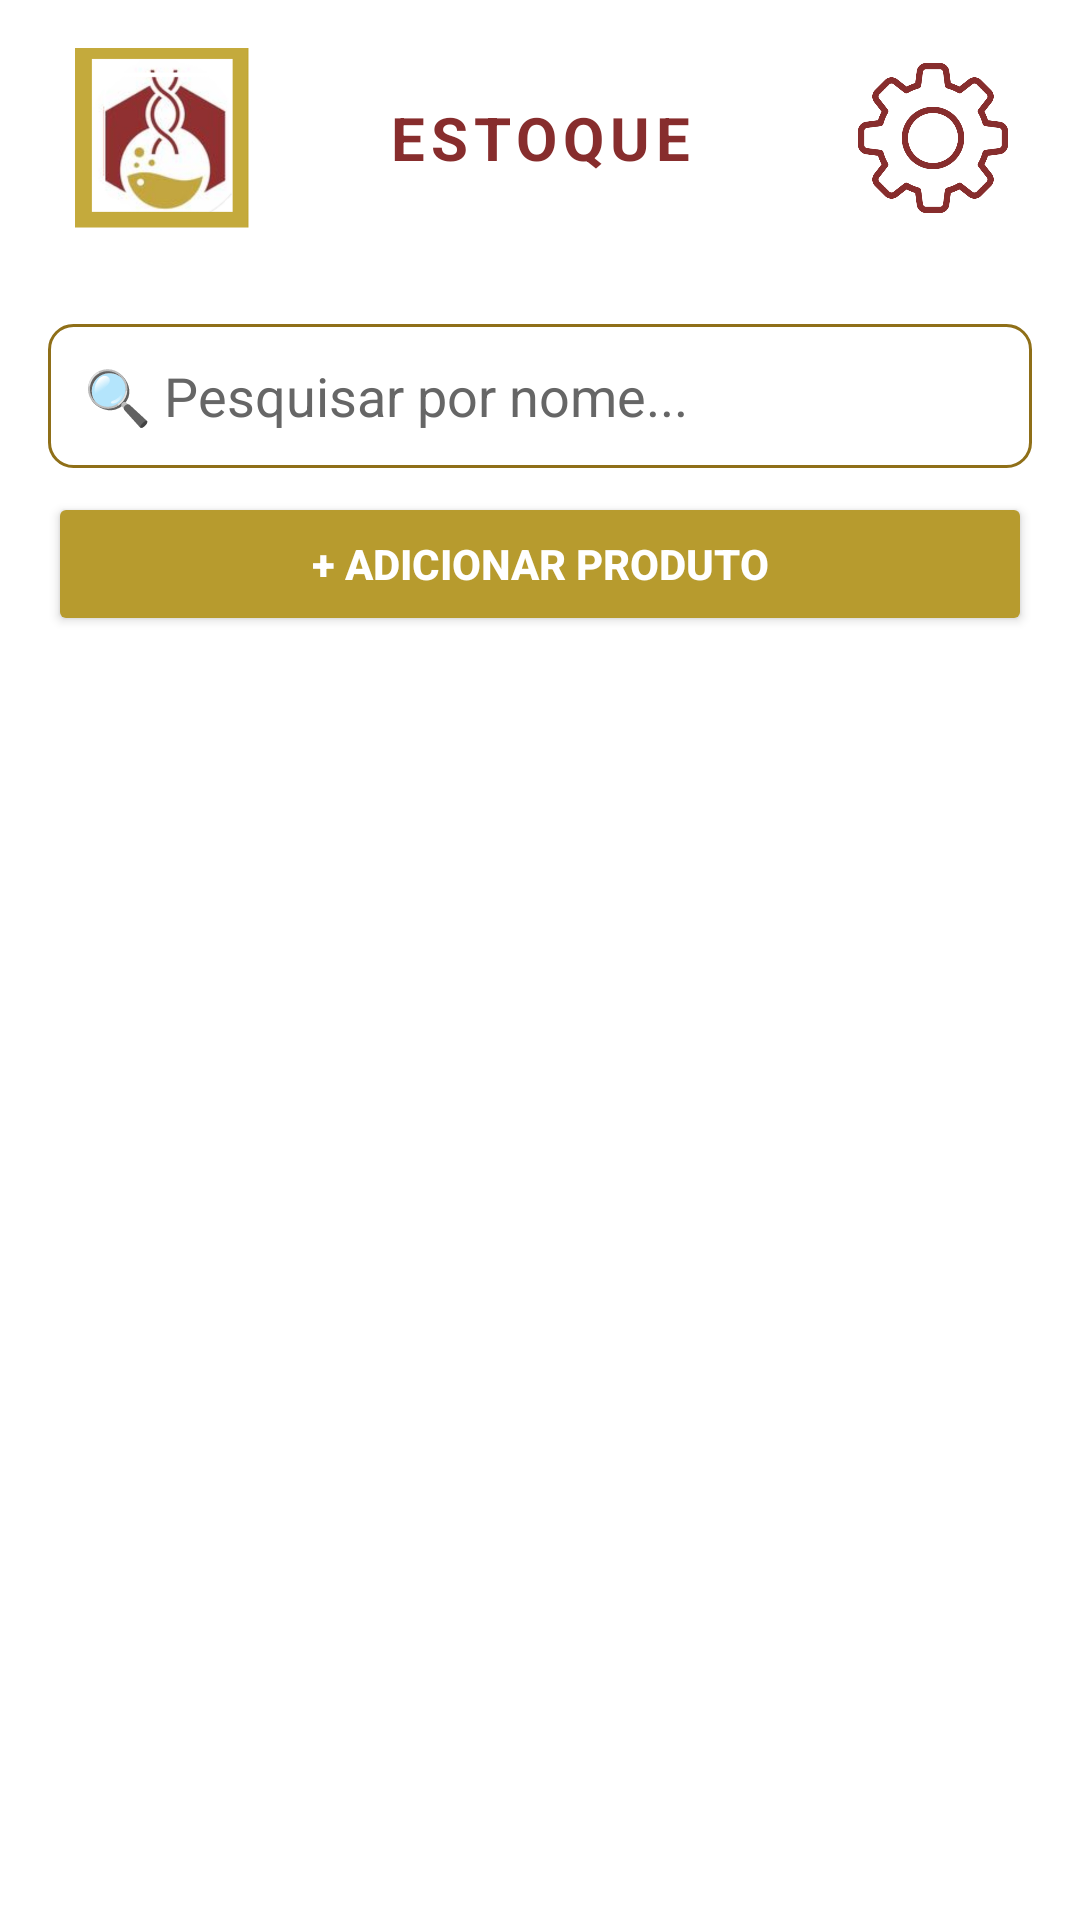

Icon bounding boxes for this 1080 x 1920 phone screenshot, format box=[x1, y1, x2, y2]:
Configurações: box=[858, 63, 1008, 213]
